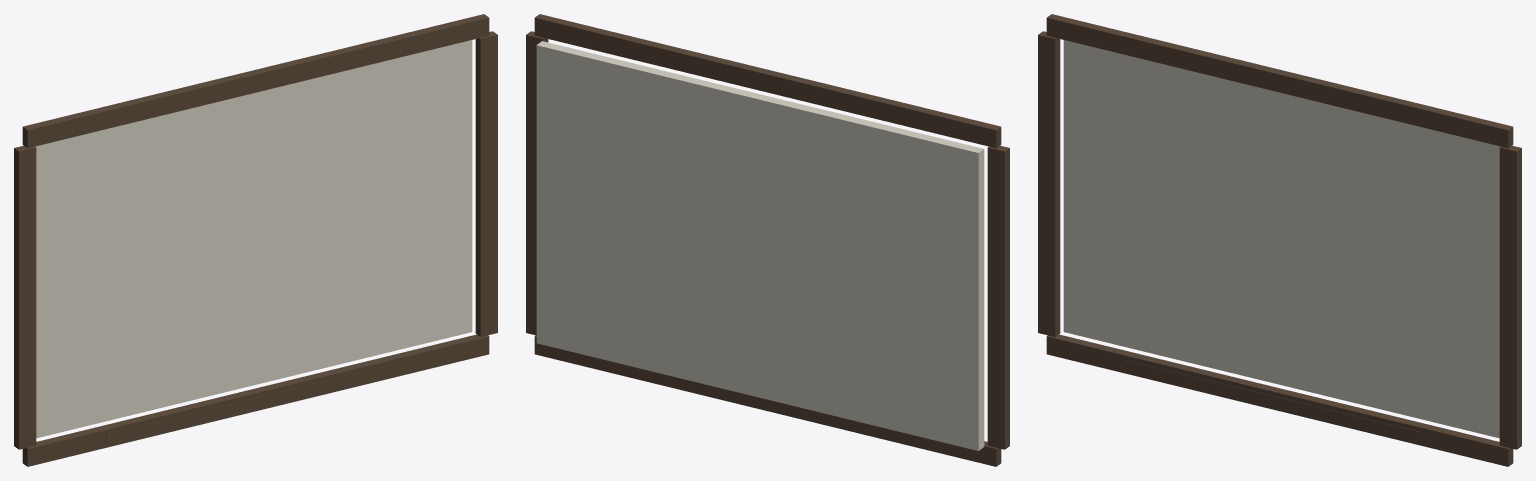
3 views of the same model, side by side, from view 1: azimuth 30°, elevation 25°; view 2: azimuth 150°, elevation 25°; view 3: azimuth 330°, elevation 25° (orthographic).
Parts seen in each view (by area): view 1: information-back, frame-top, frame-bottom, frame-left, frame-right, marker-shelf; view 2: information-back, frame-top, frame-left, frame-bottom, frame-right; view 3: information-back, frame-top, frame-bottom, frame-right, frame-left, marker-shelf.
Boxes of the visible parts, x1,y1,x2,y2 form: information-back: (35,40,472,438); frame-top: (22,14,489,148); frame-bottom: (22,334,489,466); frame-left: (14,145,36,449); frame-right: (475,31,497,336); marker-shelf: (106,360,410,443); information-back: (536,41,984,450); frame-top: (534,14,1001,148); frame-left: (987,145,1009,449); frame-bottom: (534,335,1001,466); frame-right: (526,31,548,335); information-back: (1063,40,1500,438); frame-top: (1046,14,1513,148); frame-bottom: (1046,334,1513,466); frame-right: (1499,145,1521,449); frame-left: (1038,31,1060,336); marker-shelf: (1125,360,1429,443).
Bounding box in the file's own units: 0.975 × 0.655 × 0.047.
